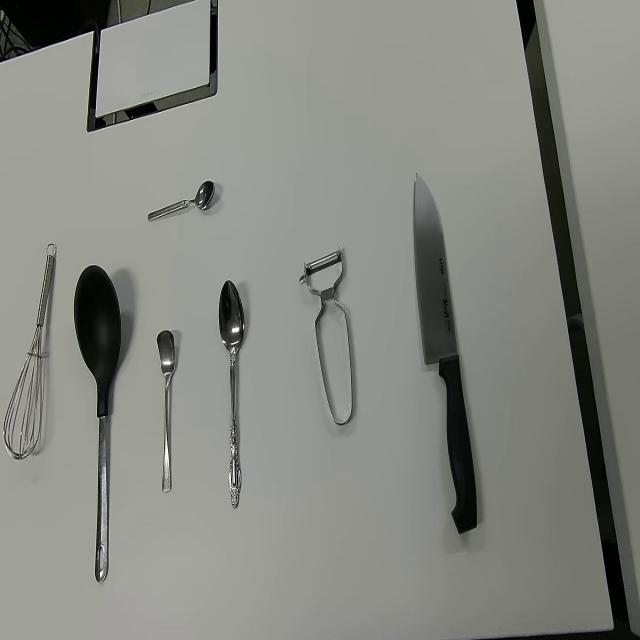Desert-Spoon: (217, 276, 246, 510)
Kitchen-Knife: (412, 171, 478, 534)
Peeler: (299, 245, 354, 427)
Serving-Spoon: (72, 262, 122, 582)
Tea-Spoon: (155, 329, 176, 494), (147, 179, 215, 224)
Whisk: (2, 241, 57, 460)
